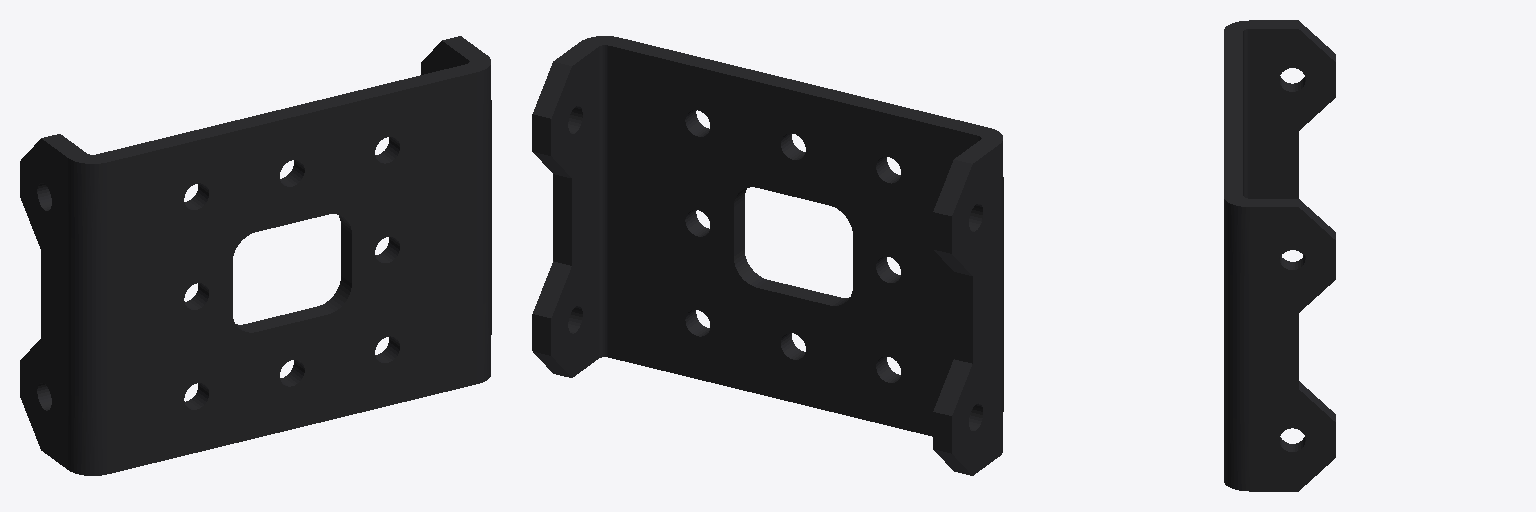
robot.urdf — phantomx_turret:
<?xml version="1.0" ?>
<!-- =================================================================================== -->
<!-- |    This document was autogenerated by xacro from phantomx_turret.urdf.xacro     | -->
<!-- |    EDITING THIS FILE BY HAND IS NOT RECOMMENDED                                 | -->
<!-- =================================================================================== -->
<robot name="phantomx_turret" xmlns:xacro="http://ros.org/wiki/xacro">
  <material name="White">
    <color rgba="0.87 0.90 0.87 1.0"/>
  </material>
  <material name="Black">
    <color rgba="0.08 0.08 0.08 1.0"/>
  </material>
  <material name="Gray">
    <color rgba="0.2 0.2 0.21 1.0"/>
  </material>
  <material name="Green">
    <color rgba="0.22 0.32 0.14 1.0"/>
  </material>
  <link name="base_link"/>
  <joint name="base_mount_joint" type="fixed">
    <origin rpy="1.570795 0 0" xyz="0 0 0"/>
    <parent link="base_link"/>
    <child link="base_mount_link"/>
  </joint>
  <link name="base_mount_link">
    <inertial>
      <mass value="0.21328"/>
      <origin xyz="0.00199427 0.0257168 0.00107065"/>
      <inertia ixx="0.0003798" ixy="-6.70148E-7" ixz="-5.778745E-6" iyy="0.0006116" iyz="-8.17711E-7" izz="0.000379"/>
    </inertial>
    <visual>
      <origin rpy="0 0 0" xyz="0 0 0"/>
      <geometry>
        <mesh filename="package://phantomx_turret/meshes/Base.stl" scale="0.001 0.001 0.001"/>
      </geometry>
      <material name="Gray"/>
    </visual>
    <collision>
      <origin rpy="0 0 0" xyz="-2e-6 0.05785 -9e-6"/>
      <geometry>
        <box size="0.1045 0.0049 0.1045"/>
      </geometry>
    </collision>
    <collision>
      <origin rpy="0 0 0" xyz="-2e-6 0.0329 -9.5e-6"/>
      <geometry>
        <box size="0.086 0.045 0.086929"/>
      </geometry>
    </collision>
    <collision>
      <origin rpy="0 0 0" xyz="-2e-6 0.005139 -9e-6"/>
      <geometry>
        <box size="0.178 0.010522 0.178"/>
      </geometry>
    </collision>
  </link>
  <gazebo reference="base_mount_link">
    <material>Gazebo/Gray</material>
    <selfCollide>true</selfCollide>
    <gravity>true</gravity>
  </gazebo>
  <joint name="pan_servo_joint" type="fixed">
    <origin rpy="-1.570795 0 0" xyz="-2e-6 0.0763 -9e-6"/>
    <parent link="base_mount_link"/>
    <child link="pan_servo_link"/>
  </joint>
  <link name="pan_servo_link">
    <inertial>
      <mass value="0.0546"/>
      <origin xyz="-2.89001e-5 -0.0126033 0.00112682"/>
      <inertia ixx="1.43900e-5" ixy="1.54100e-9" ixz="1.1563e-8" iyy="1.21900e-5" iyz="2.16221e-7" izz="7.768456e-6"/>
    </inertial>
    <visual>
      <origin rpy="0 0 0" xyz="0 0 0"/>
      <geometry>
        <mesh filename="package://phantomx_turret/meshes/AX-12A.stl" scale="0.001 0.001 0.001"/>
      </geometry>
      <material name="Black"/>
    </visual>
    <collision>
      <origin rpy="0 0 0" xyz="0 -0.0135 0.0010025"/>
      <geometry>
        <box size="0.032 0.05 0.040047"/>
      </geometry>
    </collision>
  </link>
  <gazebo reference="pan_servo_link">
    <material>Gazebo/Black</material>
    <selfCollide>true</selfCollide>
    <gravity>true</gravity>
  </gazebo>
  <joint name="pan_F3_joint" type="revolute">
    <origin rpy="0 0 0" xyz="0 0 0.02094"/>
    <axis xyz="0 1 0"/>
    <limit effort="1.5" lower="-2.61799166667" upper="2.61799166667" velocity="11.8912423395"/>
    <dynamics friction="0.13"/>
    <parent link="pan_servo_link"/>
    <child link="pan_F3_link"/>
  </joint>
  <link name="pan_F3_link">
    <inertial>
      <mass value="0.004398"/>
      <origin xyz="2.45363e-17 -2.45363e-17 0.00183916"/>
      <inertia ixx="7.00046e-7" ixy="0" ixz="0" iyy="2.66739e-7" iyz="0" izz="9.31478e-7"/>
    </inertial>
    <visual>
      <origin rpy="0 0 0" xyz="0 0 0"/>
      <geometry>
        <mesh filename="package://phantomx_turret/meshes/F3-Bracket.stl" scale="0.001 0.001 0.001"/>
      </geometry>
      <material name="Gray"/>
    </visual>
    <collision>
      <origin rpy="0 0 0" xyz="0 0 0"/>
      <geometry>
        <box size="0 0 0"/>
      </geometry>
    </collision>
  </link>
  <gazebo reference="pan_F3_link">
    <material>Gazebo/Gray</material>
    <selfCollide>true</selfCollide>
    <gravity>true</gravity>
  </gazebo>
</robot>

--- Facts derived from the render (not from the file) ---
The picture shows the robot from 3 angles, left to right: view 1: azimuth 30°, elevation 25°; view 2: azimuth 150°, elevation 25°; view 3: azimuth 270°, elevation 25°; orthographic projection.
Model phantomx_turret with 4 links and 3 joints (1 revolute, 2 fixed), rooted at base_link, posed all joints at 0.
Links seen in each view (by area): view 1: pan_F3_link; view 2: pan_F3_link; view 3: pan_F3_link.
Boxes of the visible links, x1,y1,x2,y2 form: pan_F3_link: [20, 36, 491, 475]; pan_F3_link: [532, 36, 1003, 475]; pan_F3_link: [1224, 20, 1335, 491].
Bounding box of the posed robot: 0.0352 × 0.009 × 0.025 m (x, y, z).
1 mesh visuals loaded from 3 distinct referenced files (1 binary STL); not drawn: 2 (reference not matched to a file when rendering).